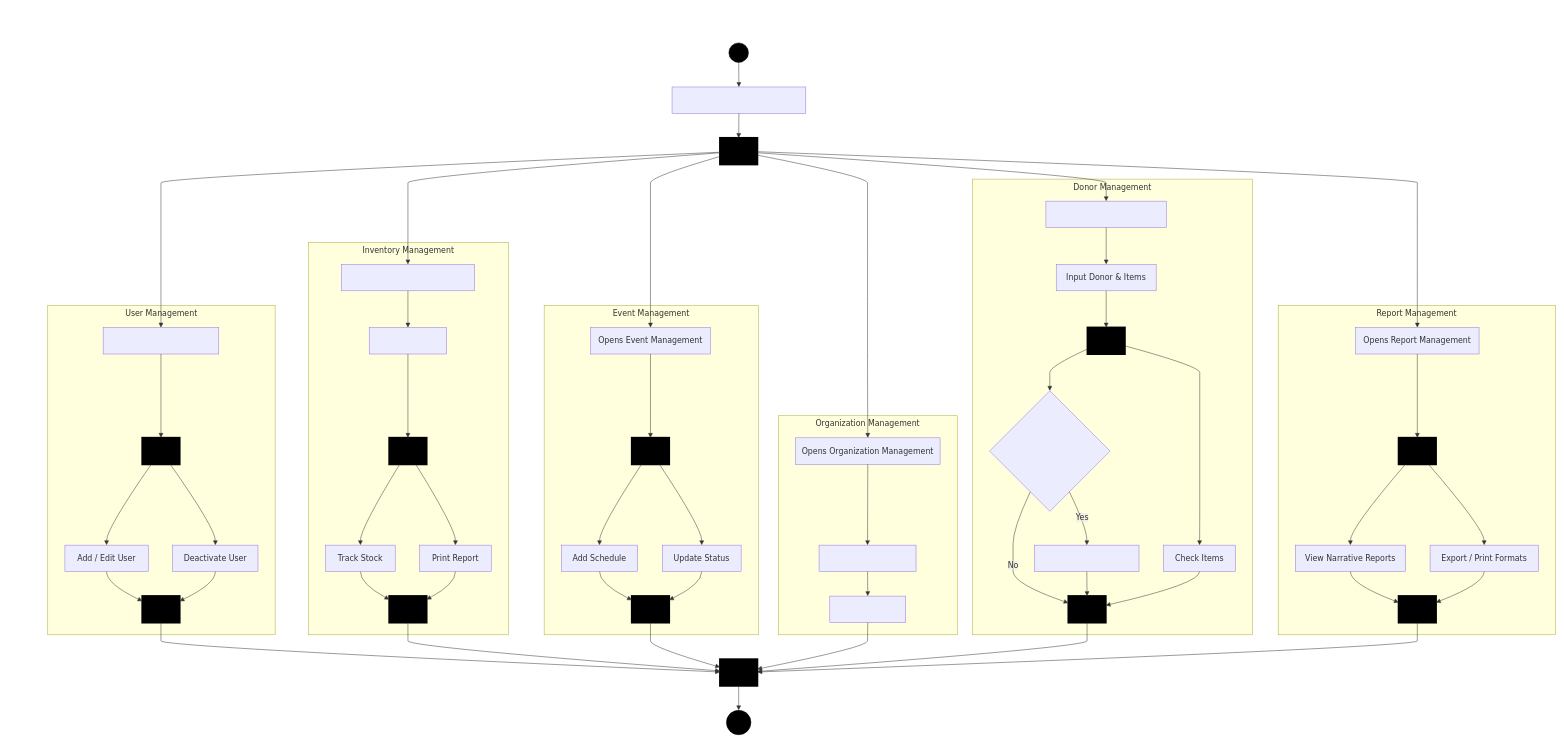
Some shapes in this 1564 by 743 pixel diagram are drawn without their labels. Here are the shapes that lost their labels. From the top down, the centre of each, then its label:
At point 739,99: "Admin Dashboard is Displayed".
At point 1105,214: "Opens Donor Management".
At point 408,277: "Opens Inventory Management".
At point 161,340: "Opens User Management".
At point 408,340: "Manage Items".
At point 1049,450: "Is item consumable?".
At point 867,558: "Create Dept Profile".
At point 1086,558: "Input Expiration Date".
At point 867,609: "Assign Events".
